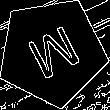M_SE: (20, 19, 84, 85)
